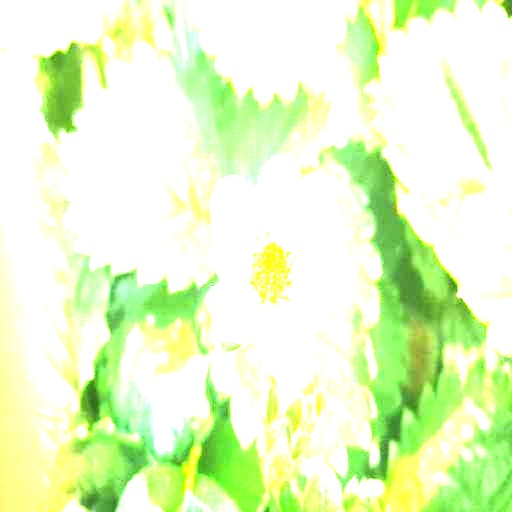Blossom Blight: (239, 223, 302, 311)
